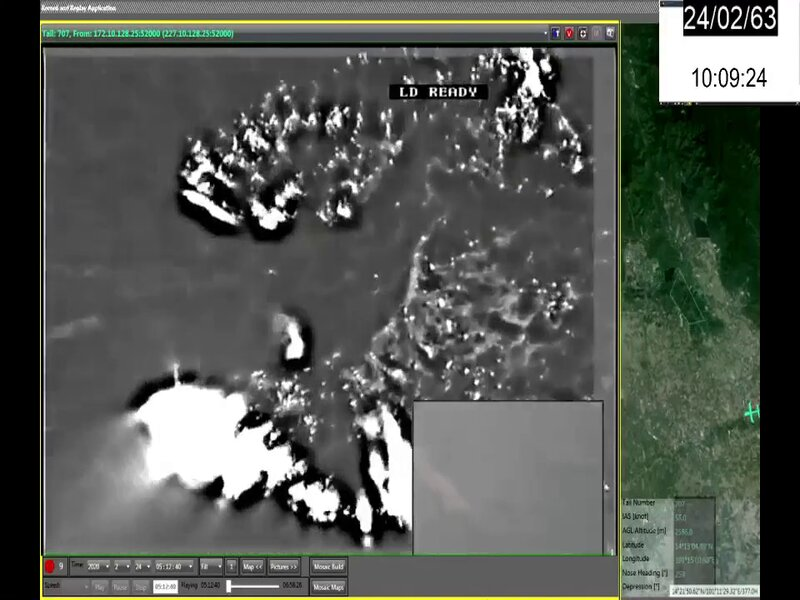Fire: (127, 104, 411, 539)
